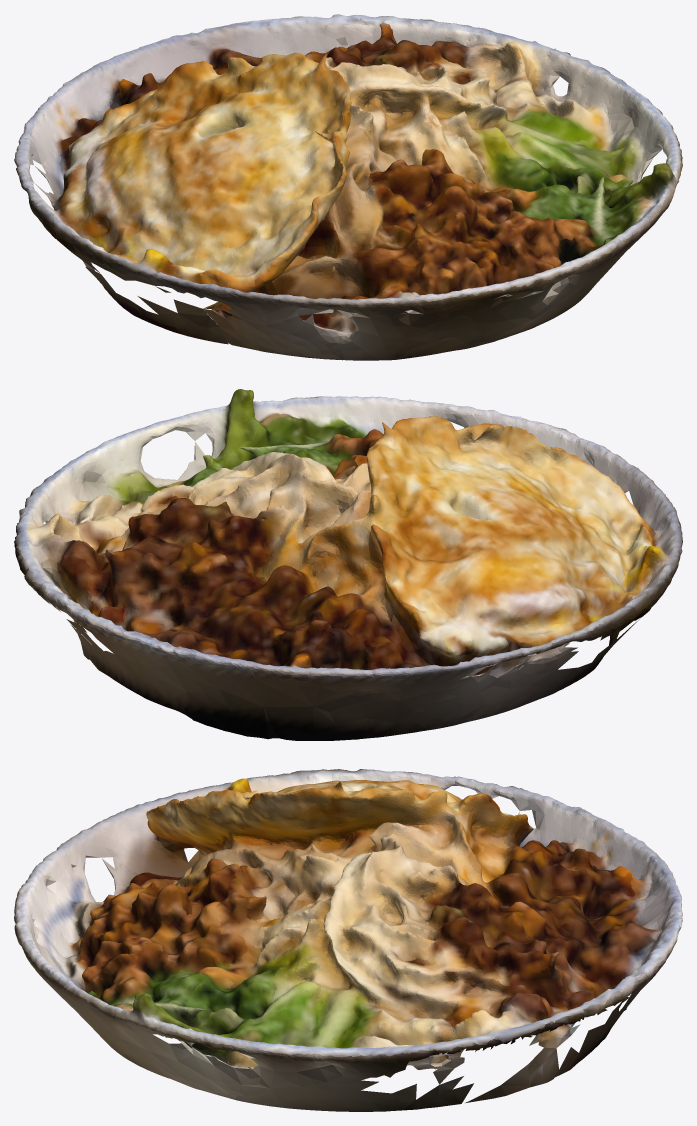
File: 221021_Zhajiangmian.fbx
The picture shows the model from 3 angles, top to bottom: view 1: azimuth 30°, elevation 25°; view 2: azimuth 150°, elevation 25°; view 3: azimuth 270°, elevation 25°; orthographic projection.
Visible parts, largest first — view 1: mesh; view 2: mesh; view 3: mesh.
Boxes of the visible parts, x1,y1,x2,y2 form: mesh: [14, 14, 682, 360]; mesh: [14, 389, 682, 740]; mesh: [14, 769, 682, 1111].
Bounding box in the file's own units: 0.2261 × 0.0762 × 0.2246.
Materials: 1 (1 with a texture image).
